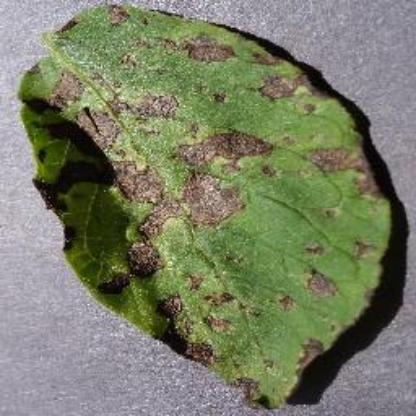Early-Blight: (17, 6, 402, 408)
